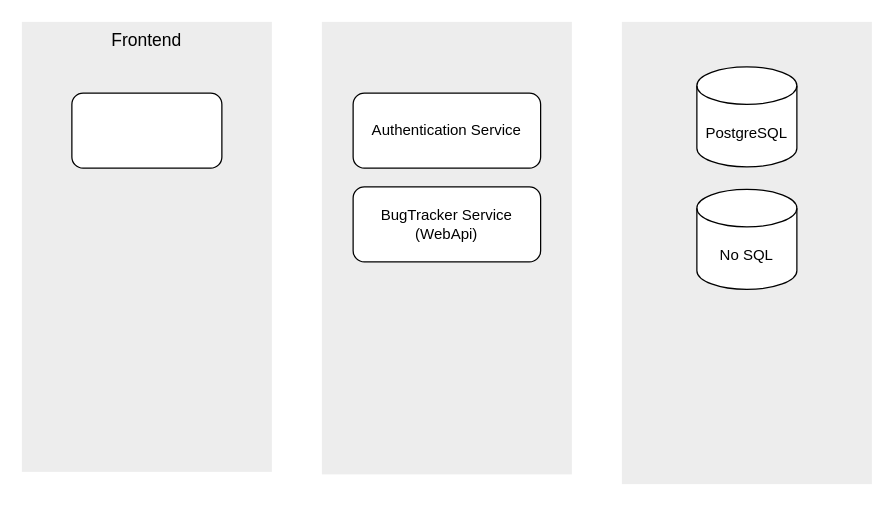
This 893x505 diagram has some shape labels left out. The shapes that lost their labels are listed below. From the top down, each one's box as (x1, y1, x2, y2) in pixels, then its label:
(71, 92, 222, 168): WebSite (React)
(321, 21, 571, 474): Backend
(621, 21, 871, 484): Database
